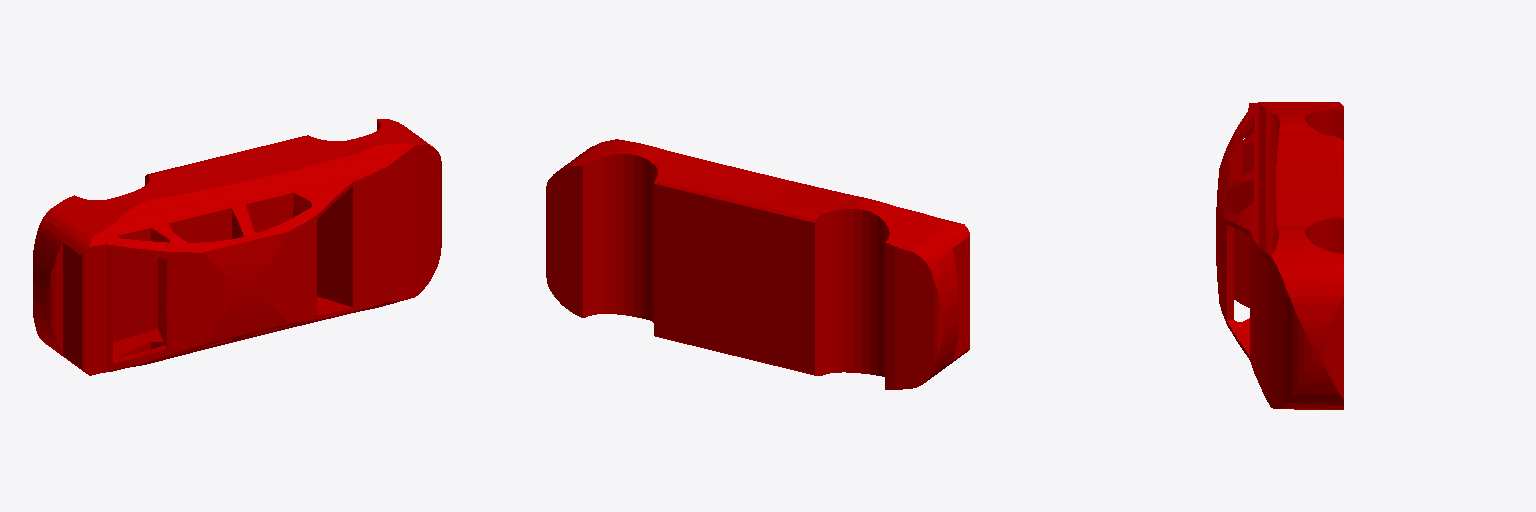
File: sedan_body.obj
3 renders of one model, left to right at view 1: azimuth 30°, elevation 25°; view 2: azimuth 150°, elevation 25°; view 3: azimuth 270°, elevation 25°, orthographic.
Visible parts, largest first — view 1: Fusion; view 2: Fusion; view 3: Fusion.
Boxes of the visible parts, <box> form: Fusion: <box>33,119,441,375</box>; Fusion: <box>546,139,969,389</box>; Fusion: <box>1216,102,1343,409</box>.
Bounding box in the file's own units: 47.98 × 18.86 × 13.35.